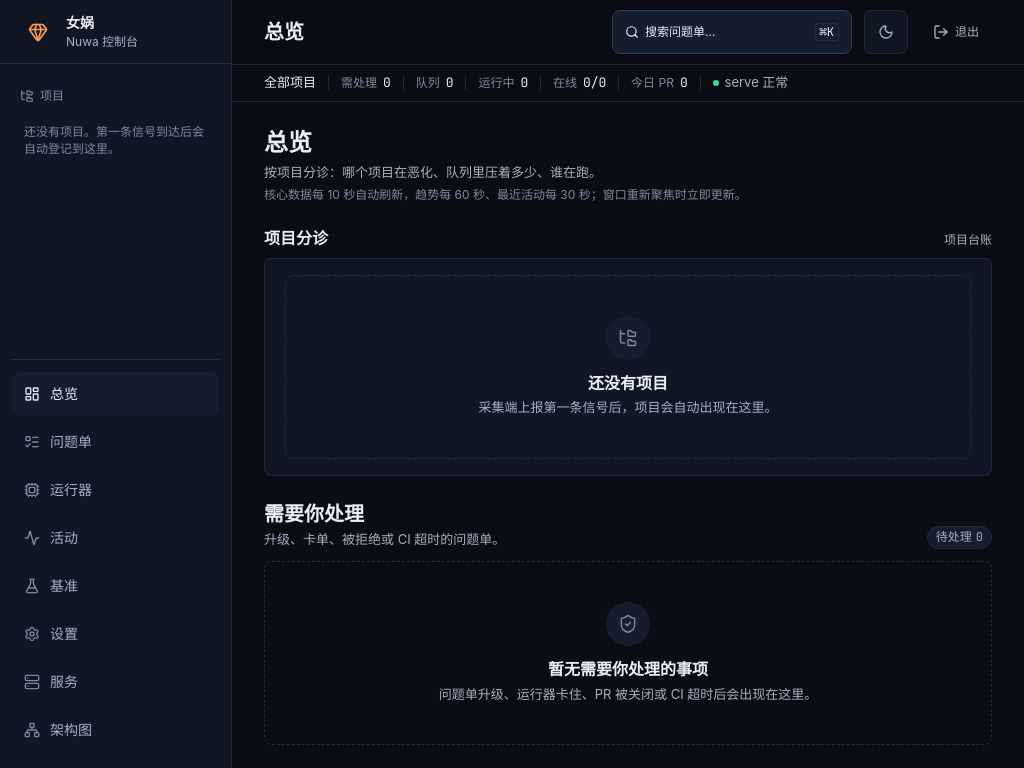
Scenario: AppShell › updates the document title after client-side navigation
Check: the 1st heading "总览" is shown, box [264,20,304,44]
Click the link "问题单" at (58, 442), box [24,433,92,450]
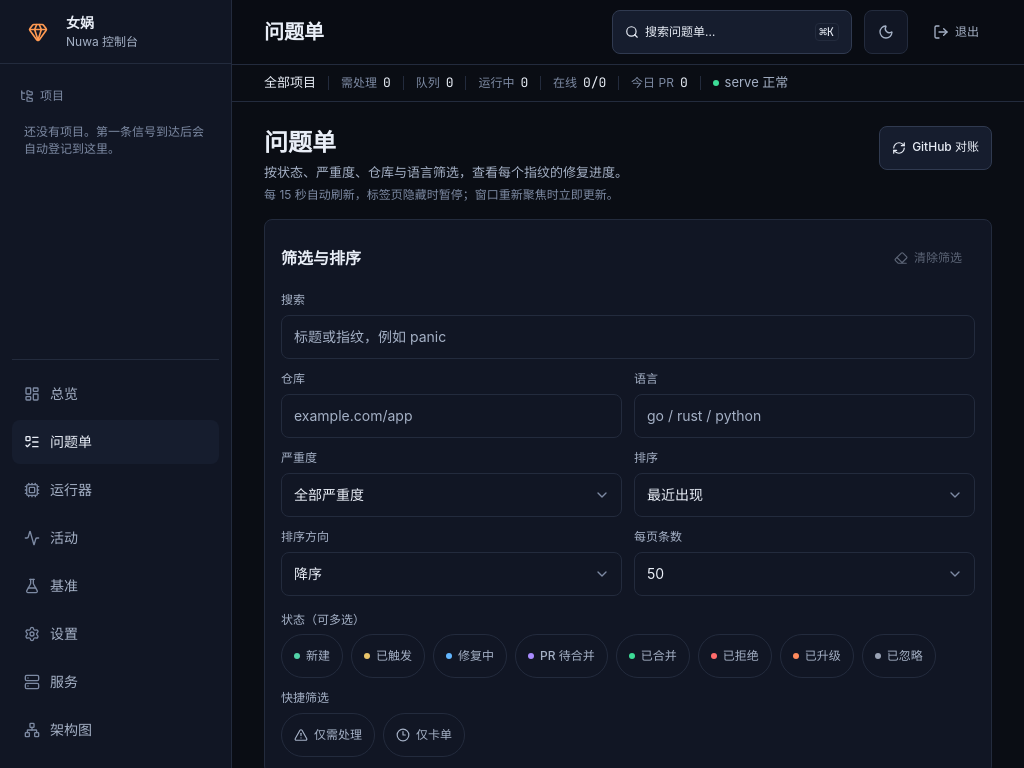
Check: the 2nd heading "问题单" is shown, box [264,128,336,156]
